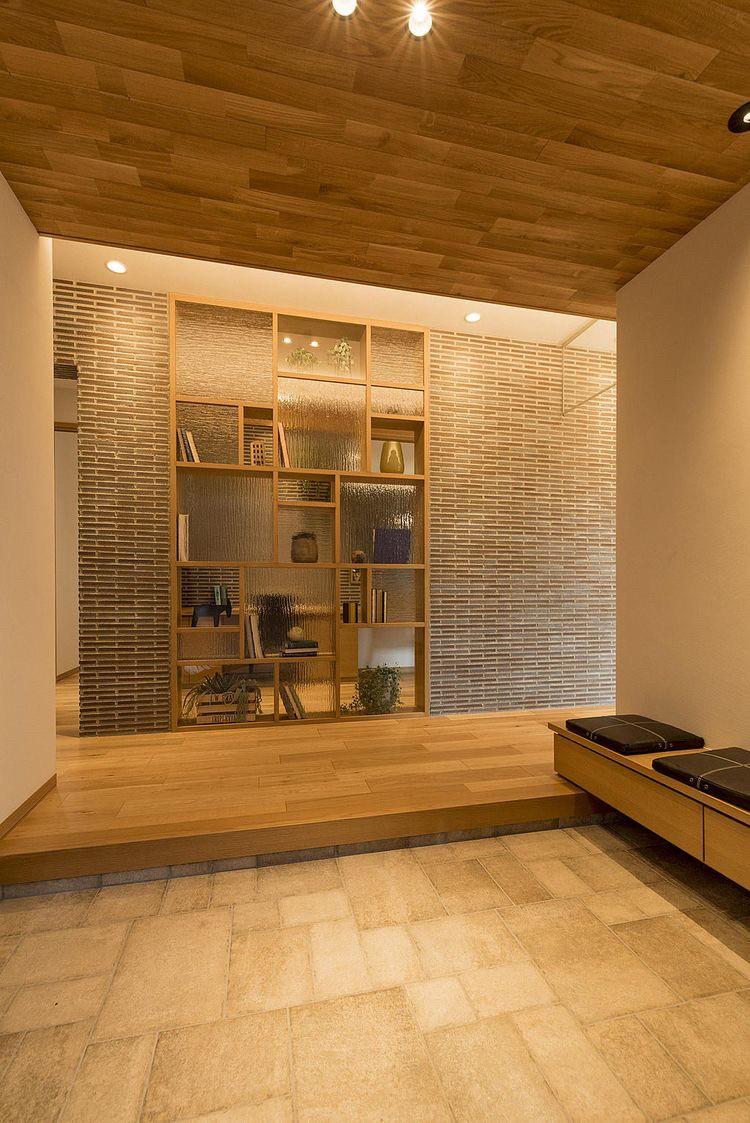floor: (0, 820, 749, 1122)
